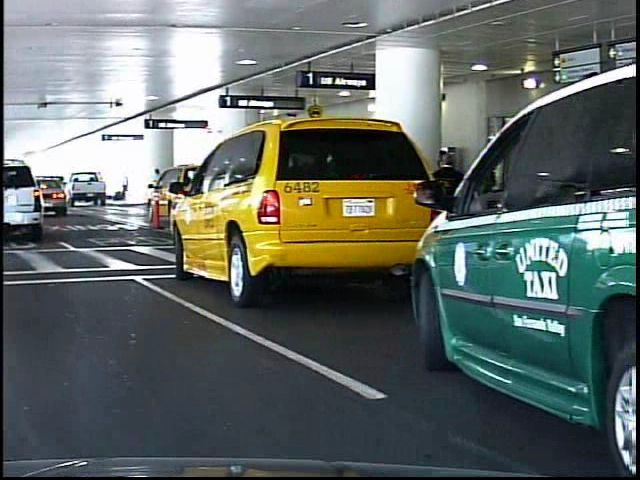person: (425, 149, 459, 281)
